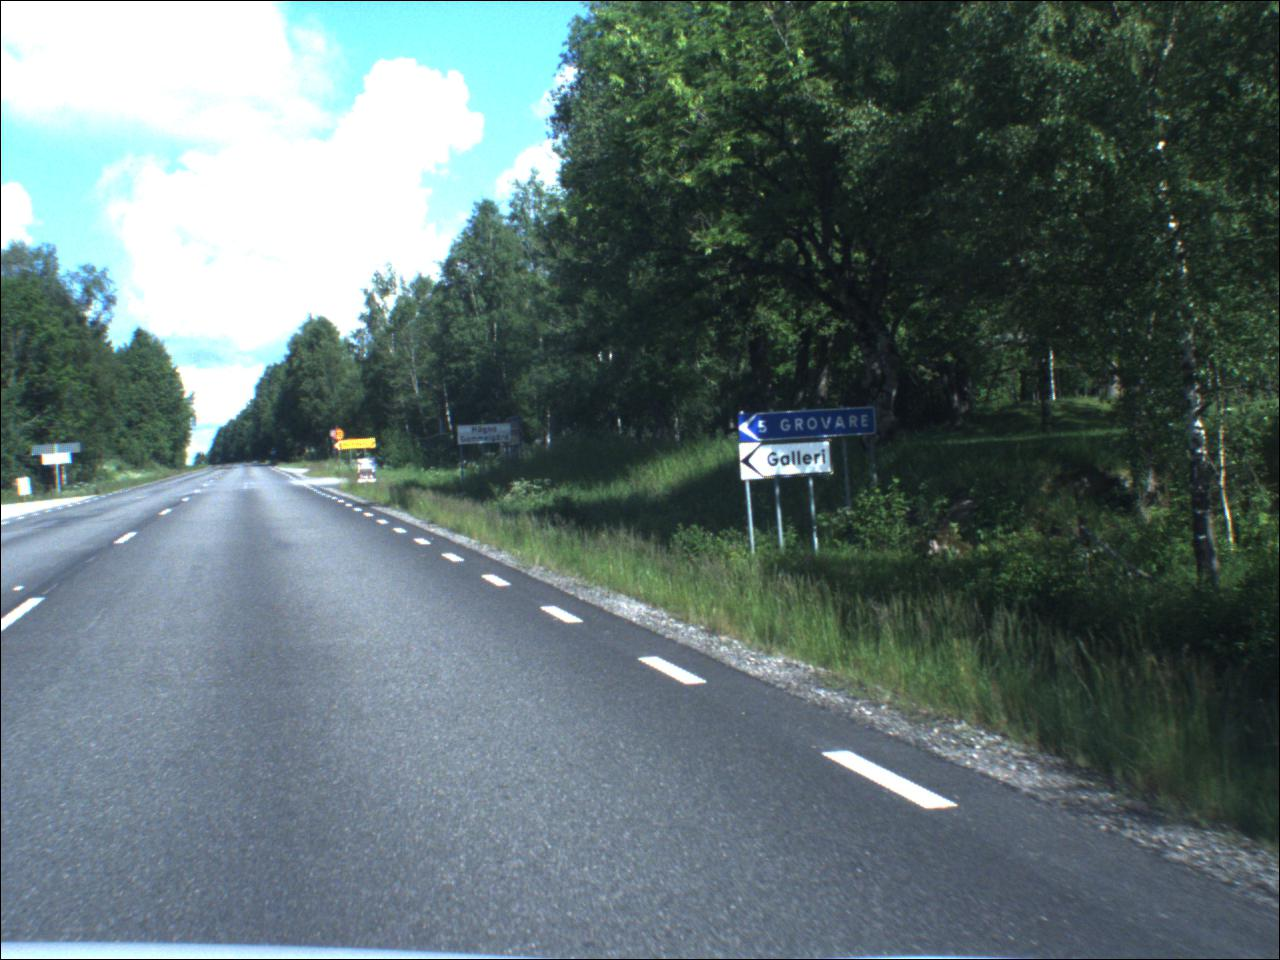80_SIGN: (334, 428, 347, 441)
